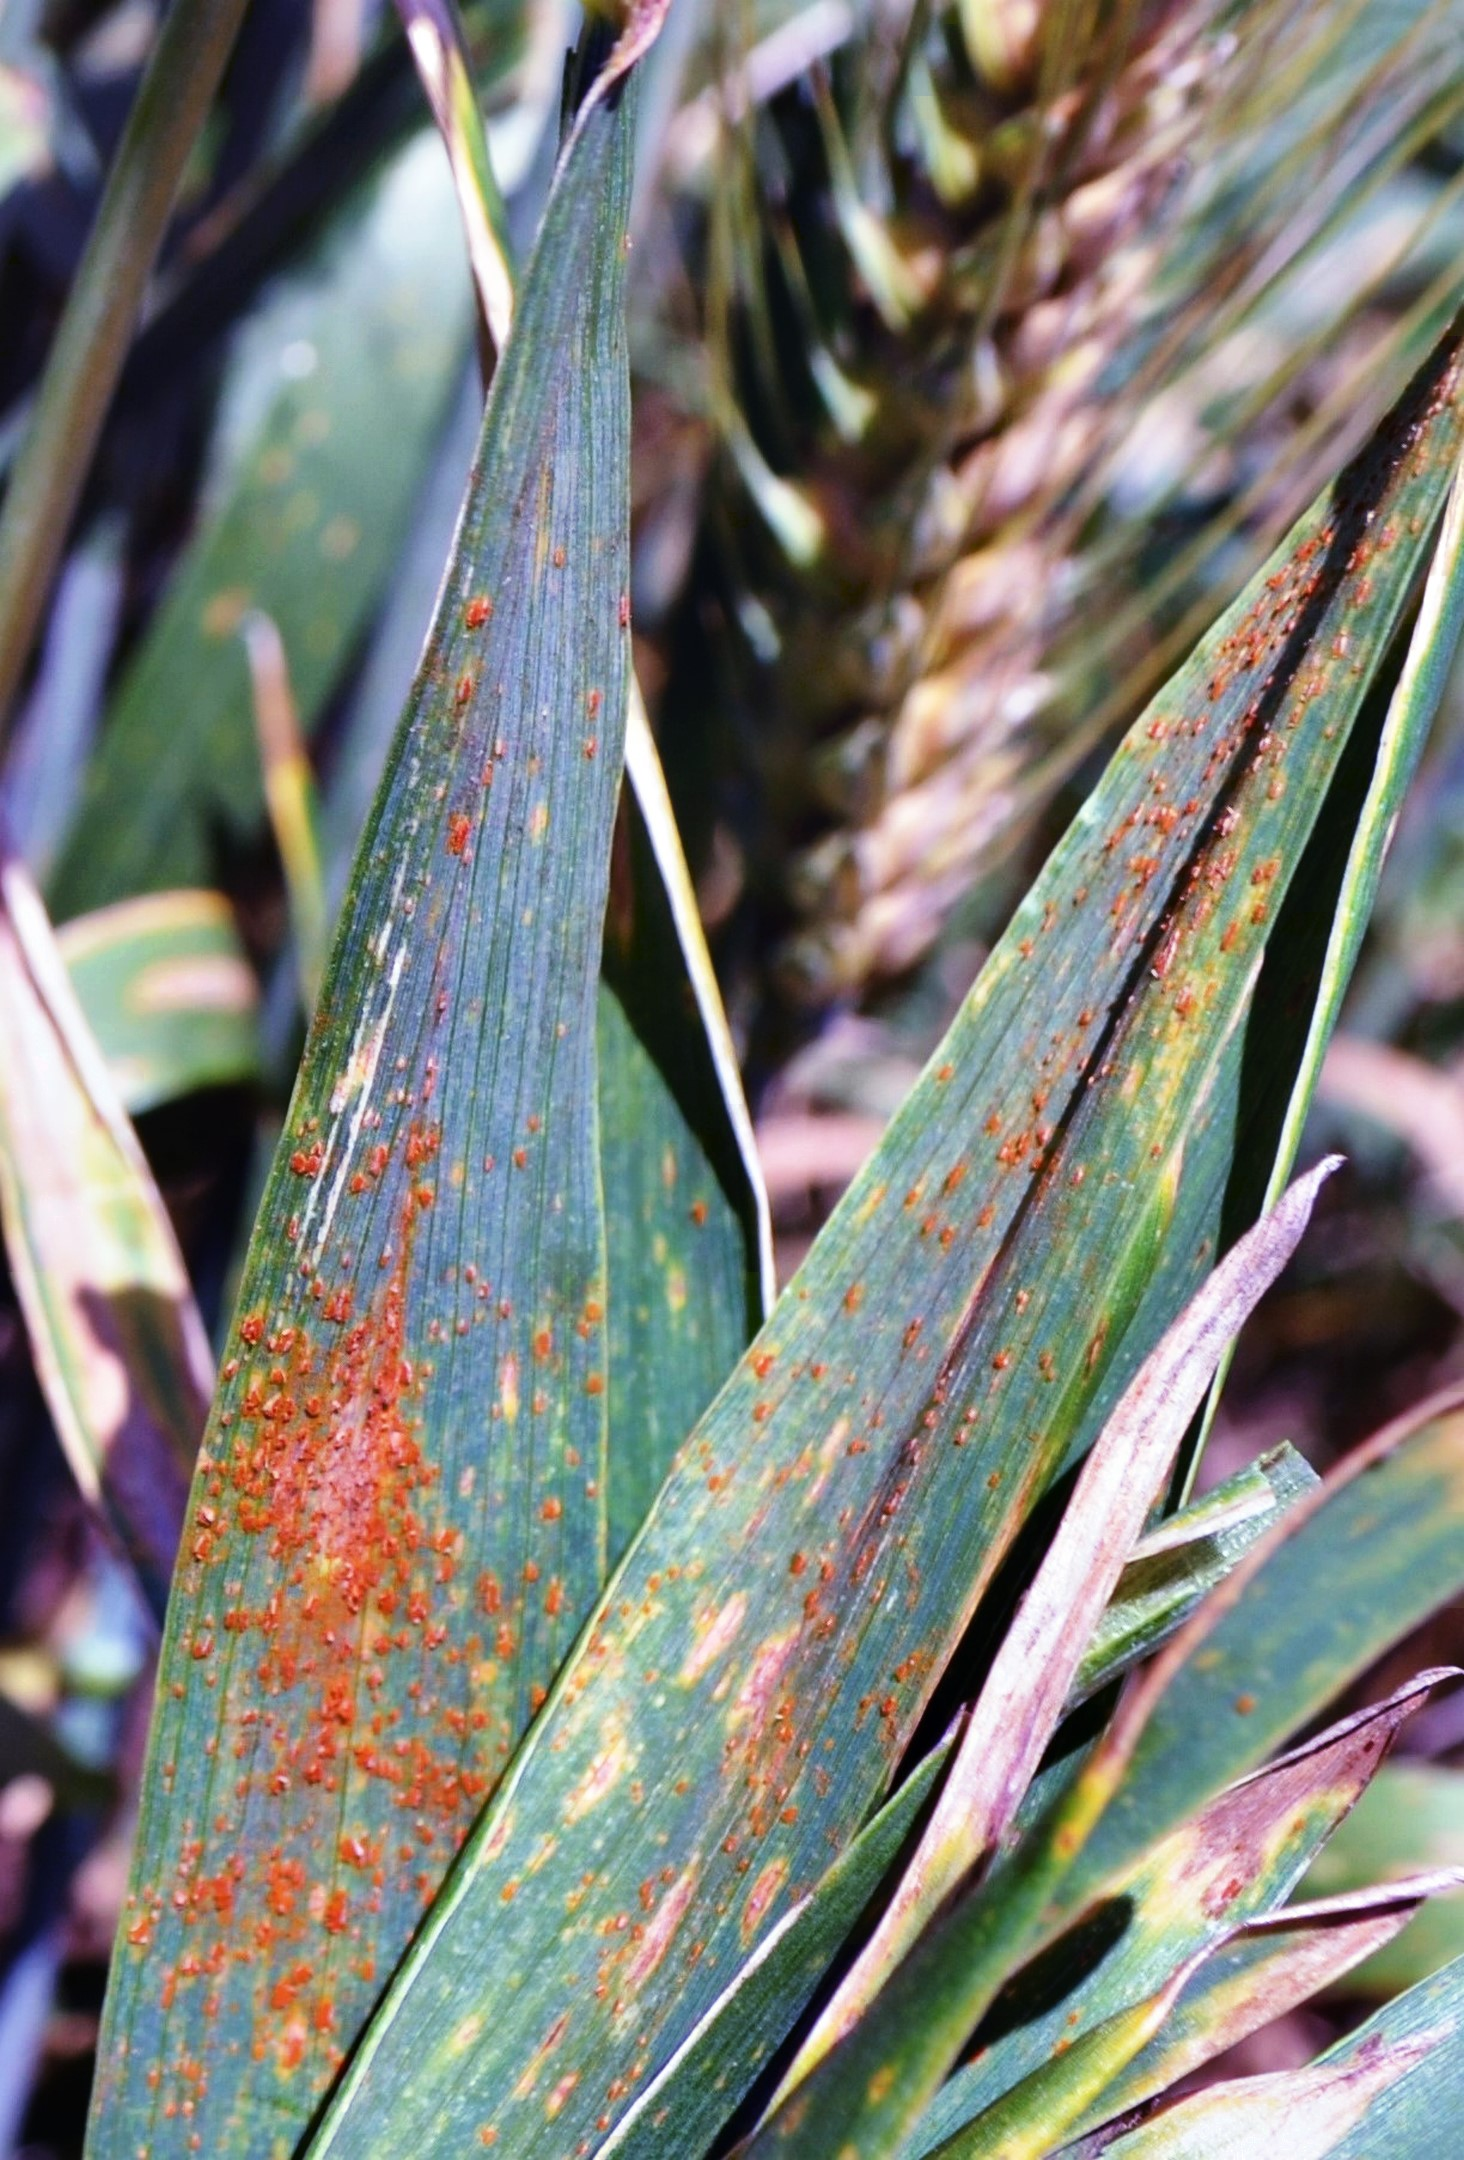Leaf Rust: (80, 948, 1162, 2106)
